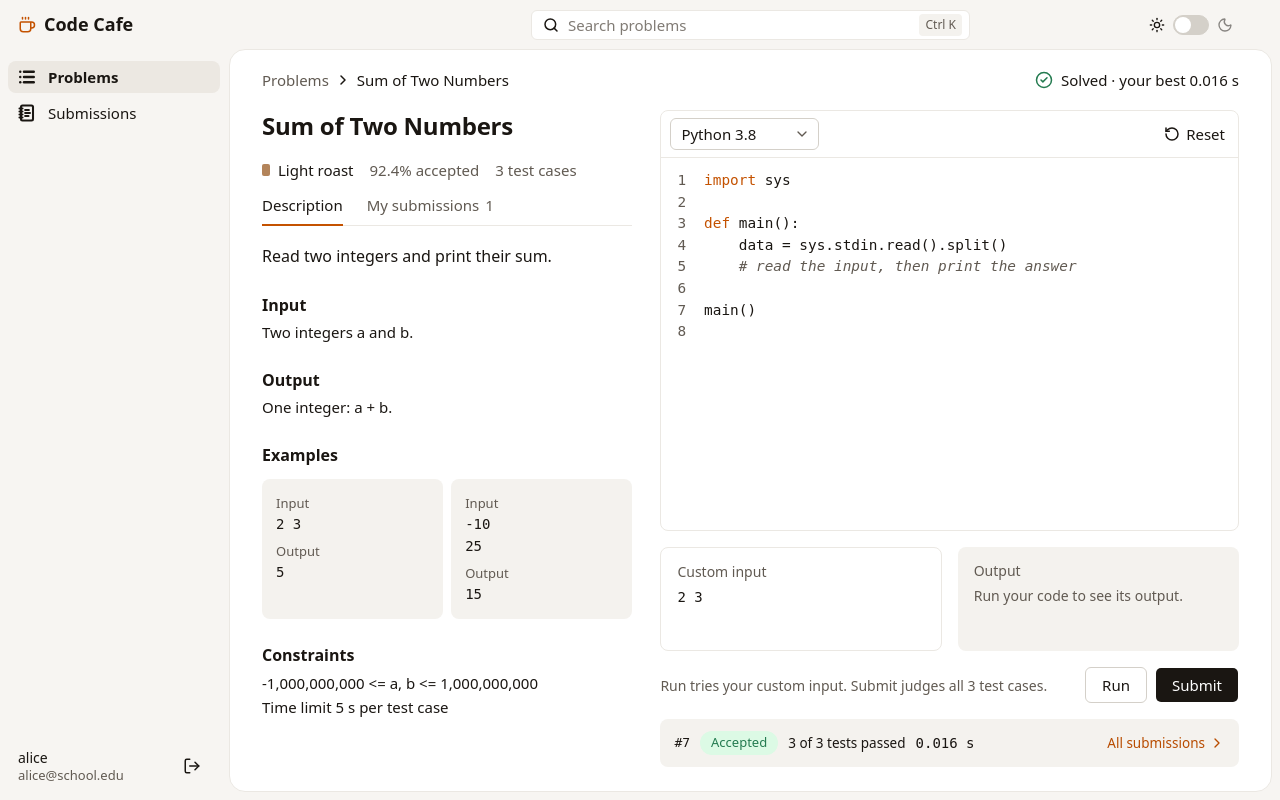
Test: workspace › prints the submission ticket after Submit
Click the button "Submit" at [1197, 685], box [1155,667,1239,703]
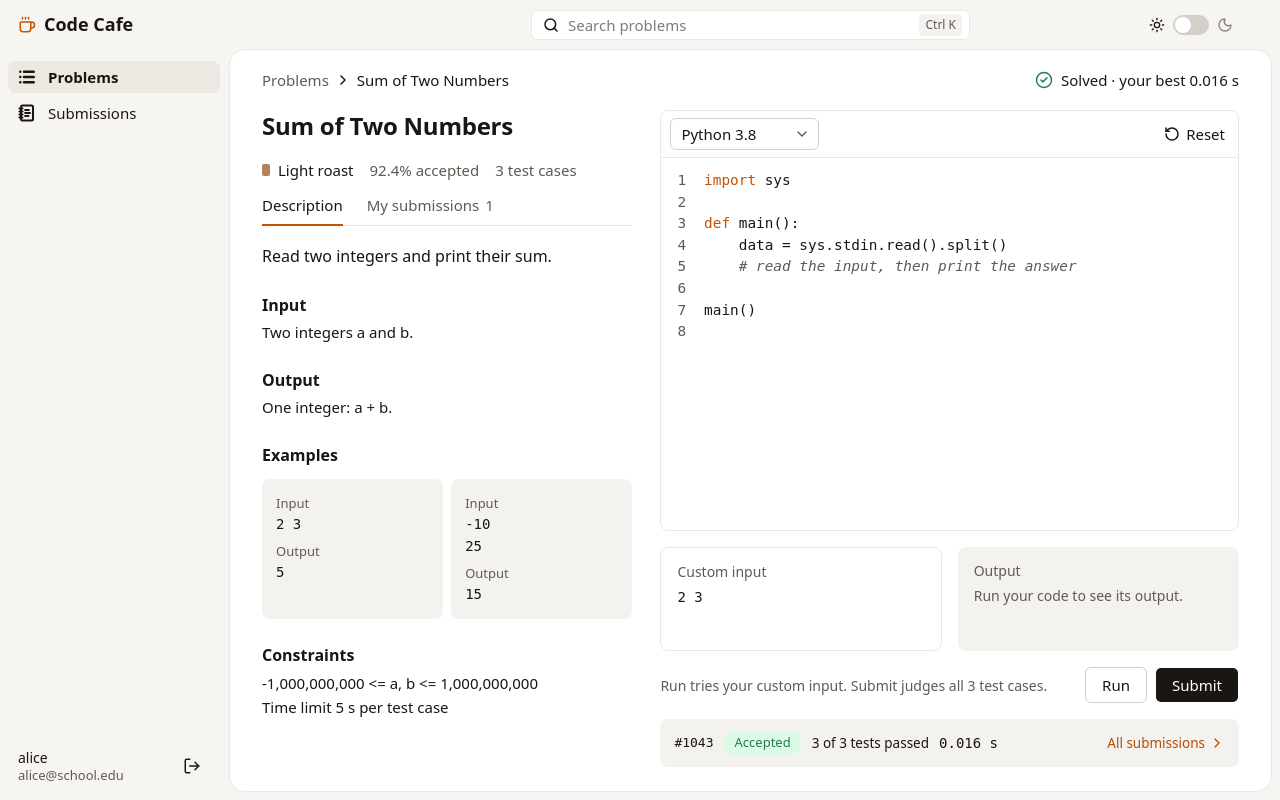
Expected: the text "Accepted" is shown, [724,731,802,755]
Expected: the element with test id "ticket" shows "3 of 3 tests passed", [660,719,1239,767]
